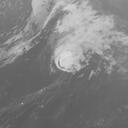cyclone: (53, 43, 85, 72)
